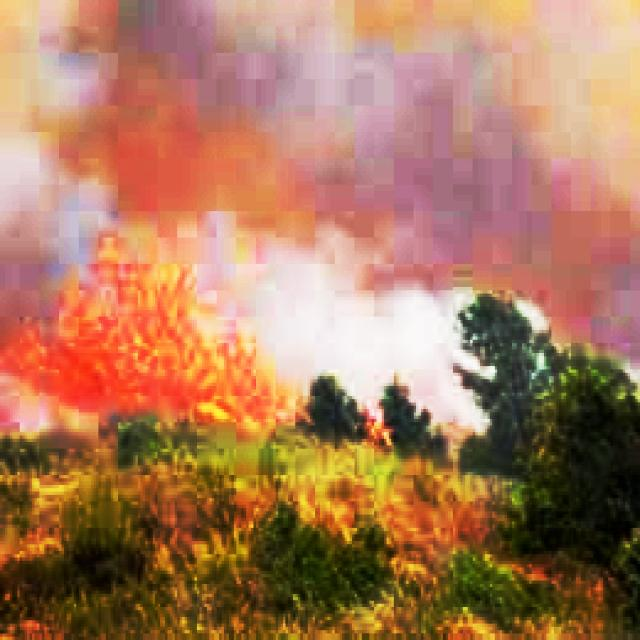api: (32, 256, 288, 446)
asap: (305, 6, 634, 436), (23, 31, 312, 249)
